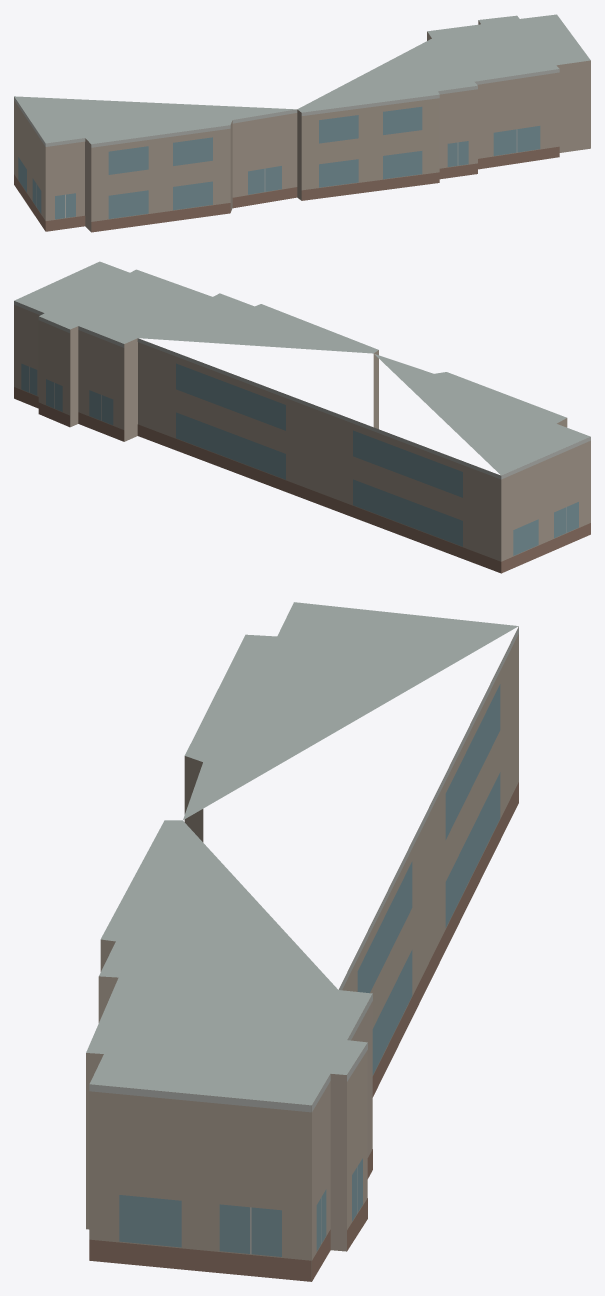
File: survey-upis-32872401.glb
3 renders of one model, top to bottom at view 1: azimuth 30°, elevation 25°; view 2: azimuth 150°, elevation 25°; view 3: azimuth 270°, elevation 25°, orthographic. The views are drawn at different scales.
Parts seen in each view (by area): view 1: survey-upis-32872401.tmp; view 2: survey-upis-32872401.tmp; view 3: survey-upis-32872401.tmp.
Part boxes in pixels (<box>): survey-upis-32872401.tmp: <box>14,14,590,232</box>; survey-upis-32872401.tmp: <box>14,261,590,573</box>; survey-upis-32872401.tmp: <box>86,602,518,1281</box>.
Size of the model in its own units: 37.33 by 6.1 by 13.58.
